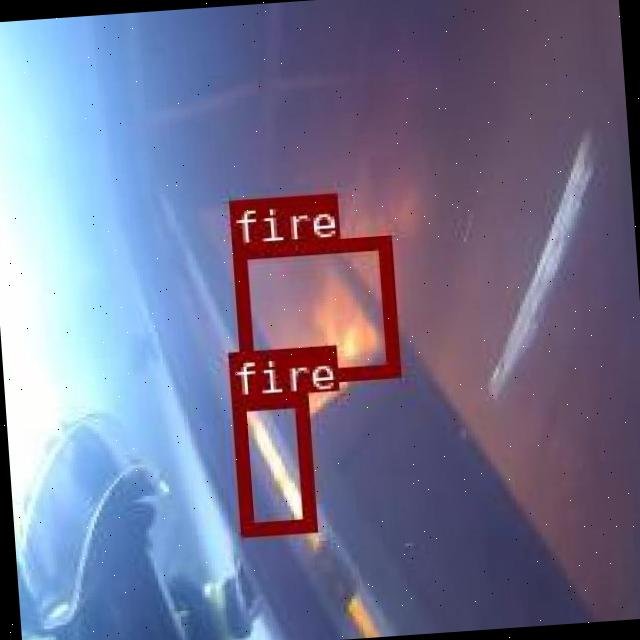fire: (232, 234, 396, 385), (232, 390, 312, 533)
